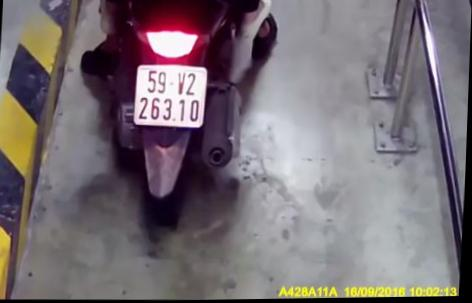LP: (133, 62, 208, 130)
